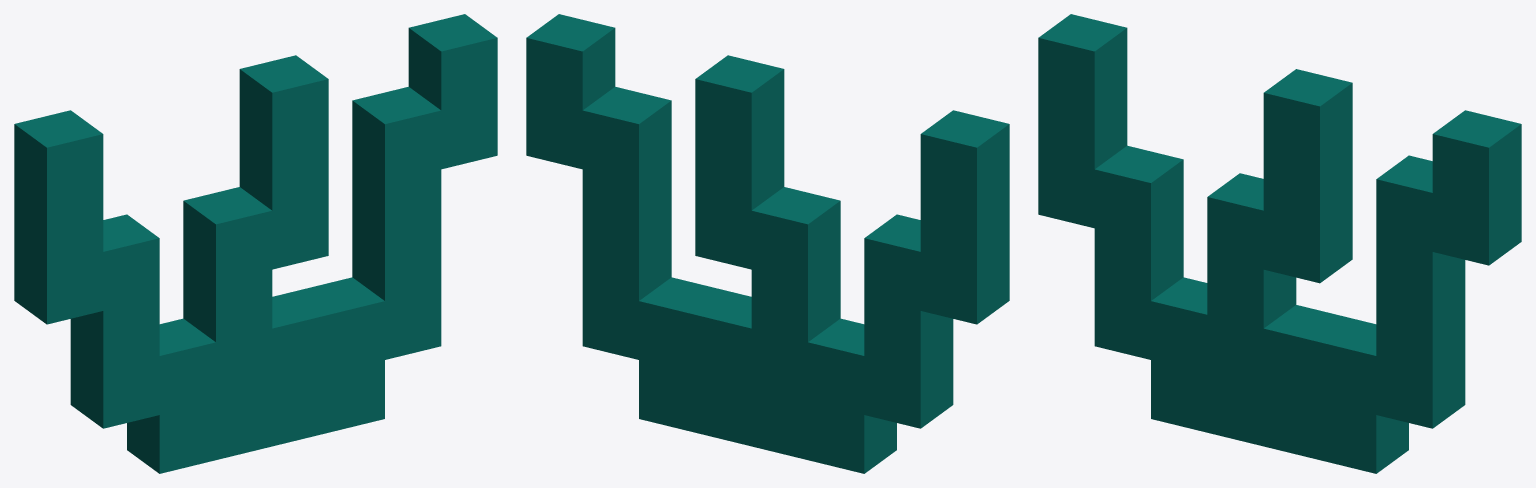
Rendered from grass-02.obj.
The picture shows the model from 3 angles, left to right: view 1: azimuth 30°, elevation 25°; view 2: azimuth 150°, elevation 25°; view 3: azimuth 330°, elevation 25°; orthographic projection.
Bounding box in the file's own units: 8 × 6 × 1.
1 material, 1 textured.
